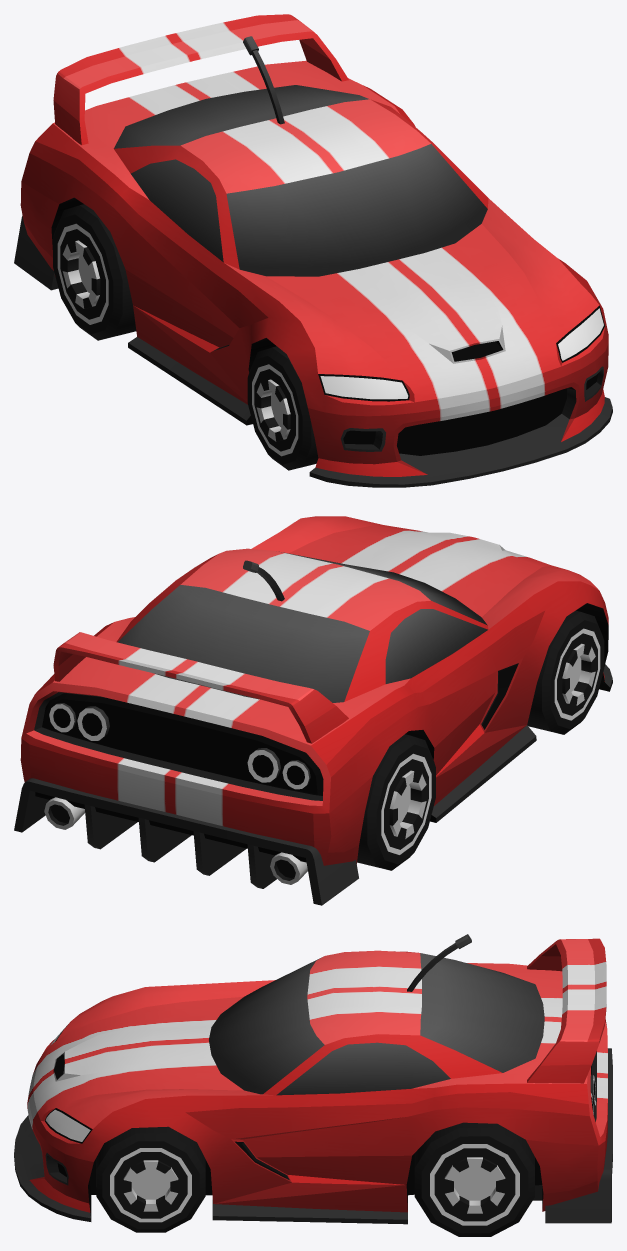
The picture shows the model from 3 angles, top to bottom: view 1: azimuth 30°, elevation 25°; view 2: azimuth 150°, elevation 25°; view 3: azimuth 270°, elevation 25°; orthographic projection. The views are drawn at different scales.
Parts seen in each view (by area): view 1: 8, sklabtire.003, sklabtire.001; view 2: 8, sklabtire.003, sklabtire.001; view 3: 8, sklabtire.002, sklabtire.
Part boxes in pixels (box(x1,y1,x2,y2)): 8: box(14, 14, 612, 487); sklabtire.003: box(53, 204, 136, 340); sklabtire.001: box(247, 346, 318, 470); 8: box(14, 516, 612, 905); sklabtire.003: box(357, 734, 435, 870); sklabtire.001: box(527, 610, 604, 734); 8: box(14, 934, 612, 1224); sklabtire.002: box(414, 1122, 534, 1236); sklabtire: box(96, 1126, 205, 1232).
Bounding box in the file's own units: 198 × 150 × 349.
